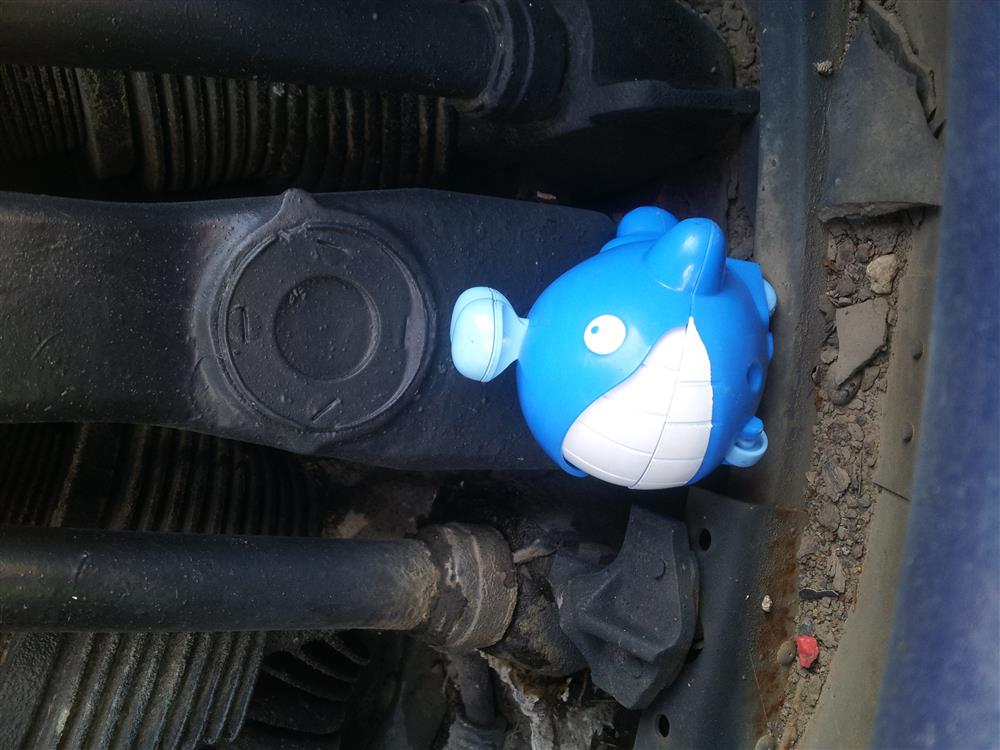toy_whale: (446, 202, 780, 493)
